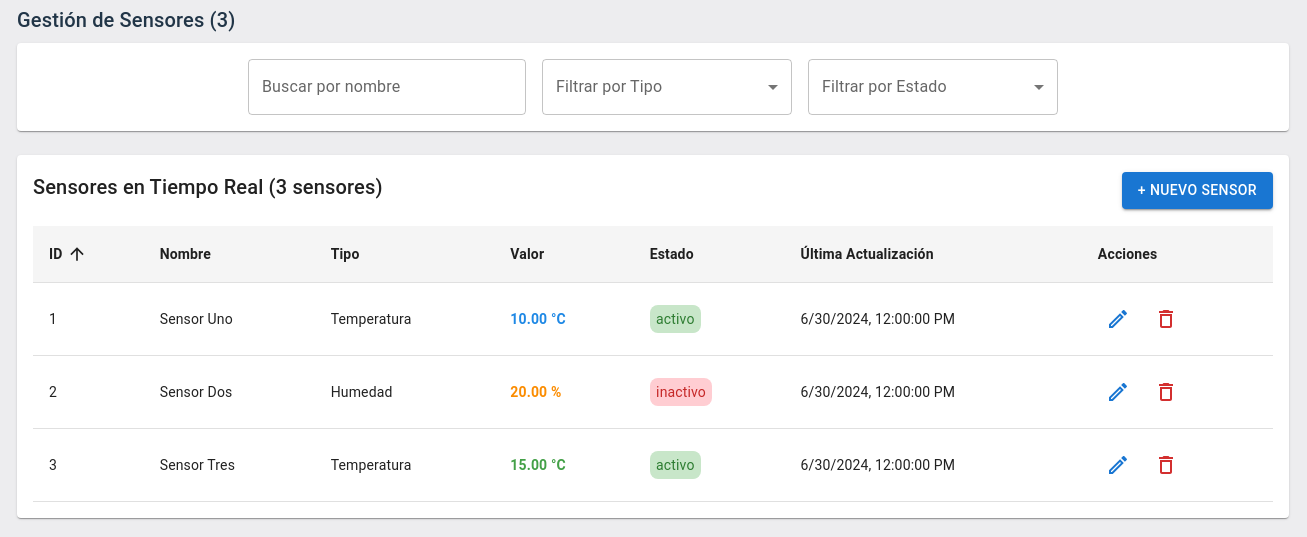
Scenario: Dashboard › filtra sensores por tipo
Press the mouse on the dropdown named "filtrar por tipo" next to "Filtrar por Tipo" at (667, 87), box [542,59,792,115]
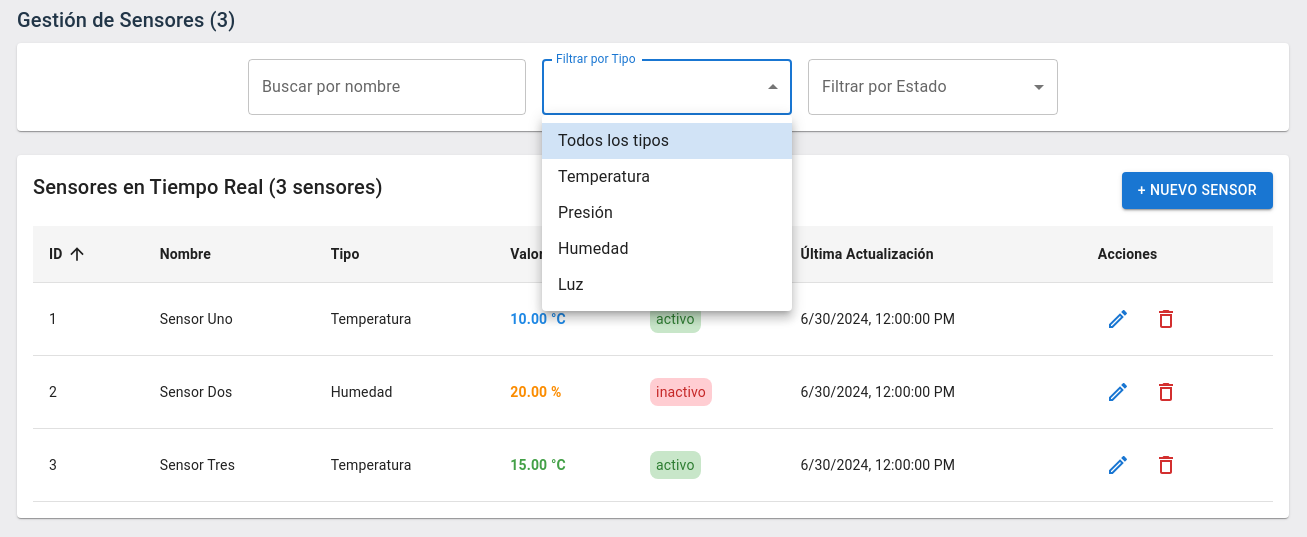
Click the option "Temperatura" at (604, 176), box [558,167,650,186]
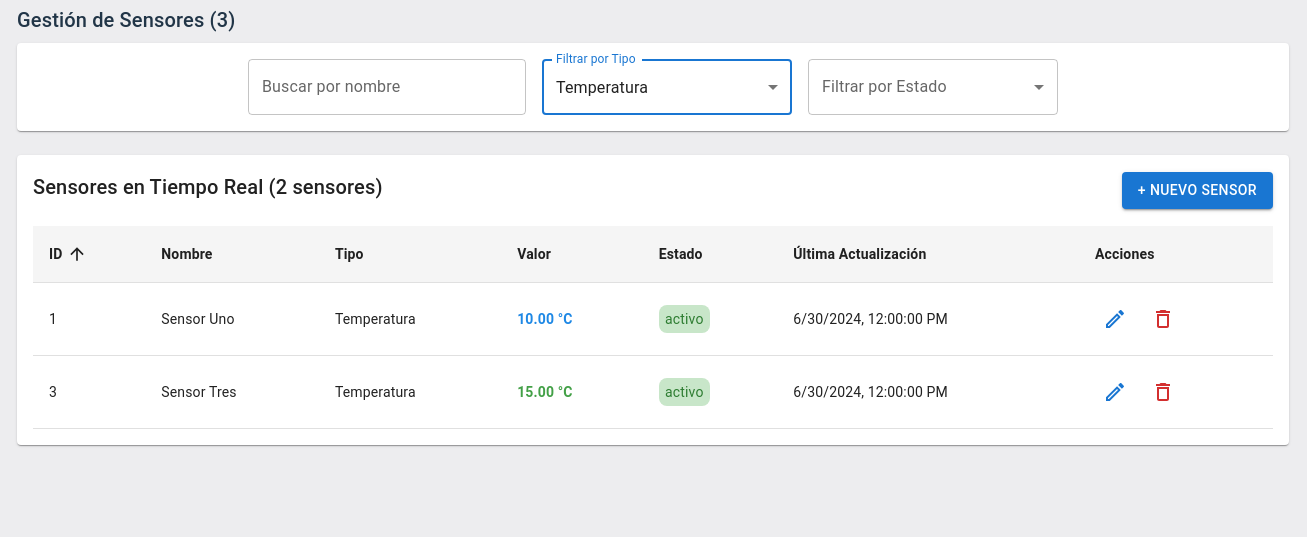
Expected: the text "Sensor Uno" is shown, [145,282,319,356]
Expected: the text "Sensor Dos" is gone
